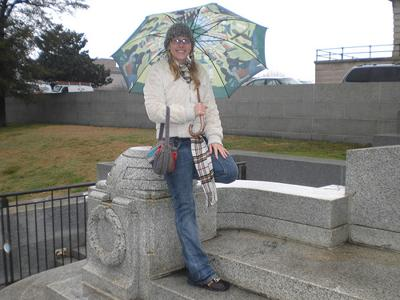person: (144, 24, 242, 292)
